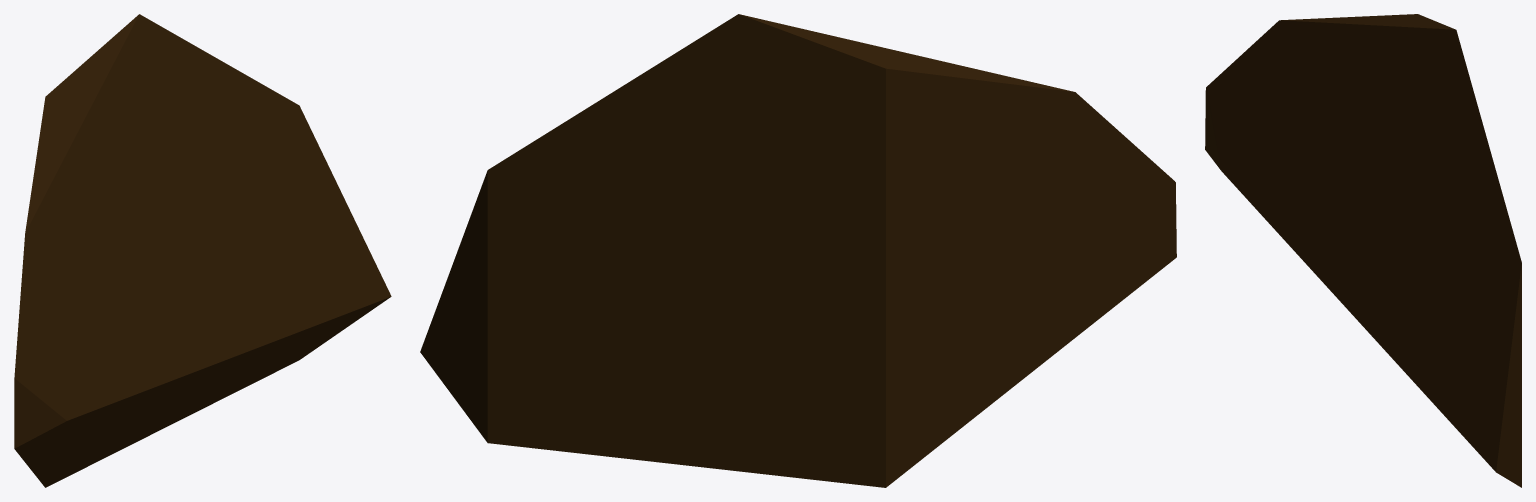
Rendered from Debris2.glb.
3 views of the same model, side by side, from view 1: azimuth 30°, elevation 25°; view 2: azimuth 150°, elevation 25°; view 3: azimuth 270°, elevation 25° (orthographic). The views are drawn at different scales.
Visible parts, largest first — view 1: Cylinder_cell; view 2: Cylinder_cell; view 3: Cylinder_cell.
Part boxes in pixels (left/top/right/bottom): Cylinder_cell: left=14, top=14, right=391, bottom=487; Cylinder_cell: left=420, top=14, right=1176, bottom=487; Cylinder_cell: left=1205, top=14, right=1521, bottom=487.
Size of the model in its own units: 1.15 by 0.8699 by 0.6562.
